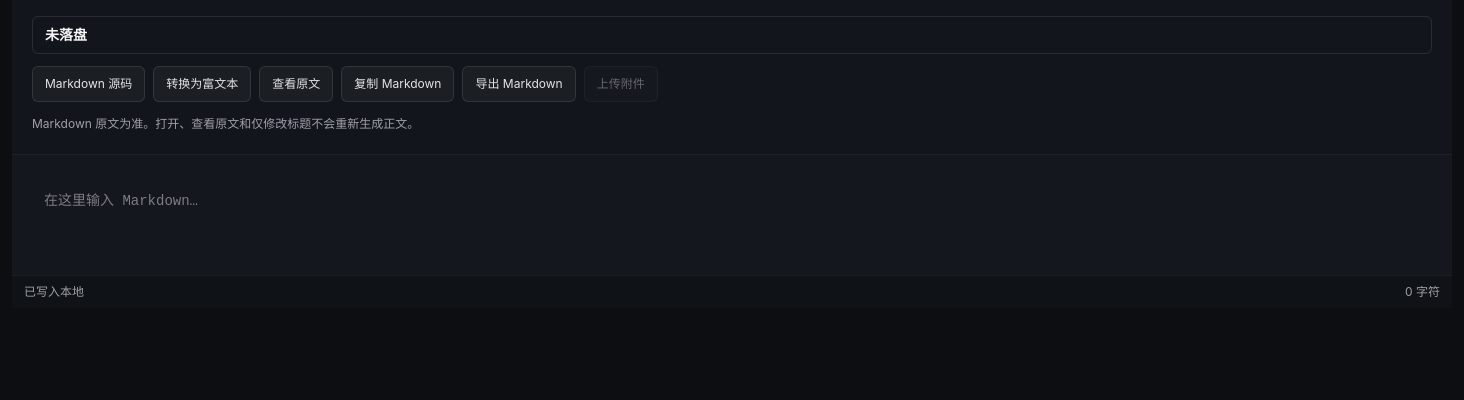
quiescing survives failed synchronization › uncommitted editor input still blocks quitting instead of being abandoned
Type "不能丢弃的输入" into the text box named "Markdown 正文".
click(732, 214); type("不能丢弃的输入")  # box x1=12 y1=154 x2=1452 y2=274
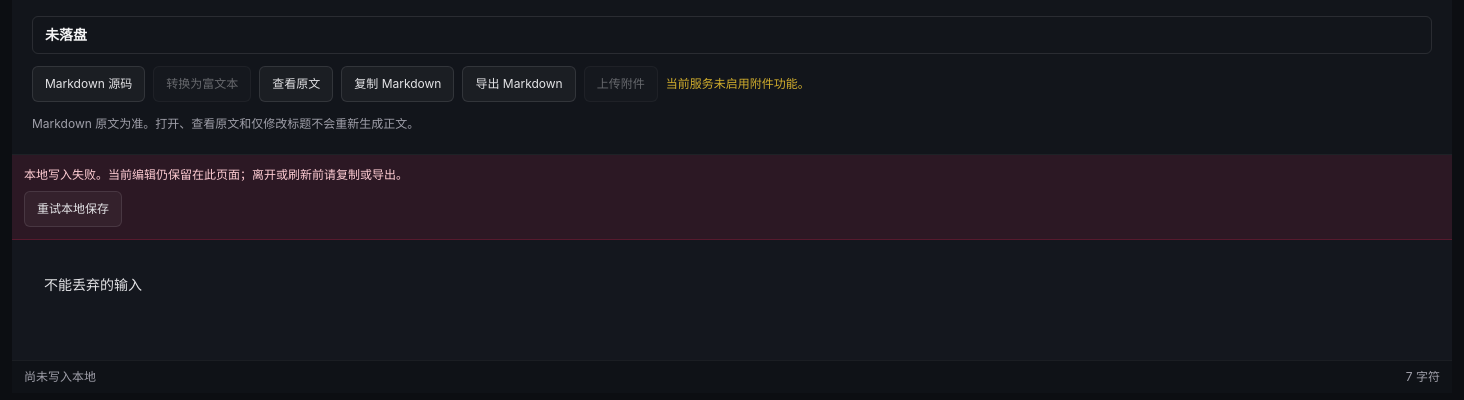
Now the message with test id "local-save-status" reads "尚未写入本地", box x1=24 y1=368 x2=96 y2=384
